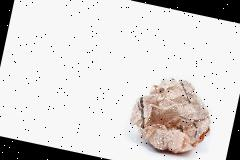paper: (125, 70, 220, 159)
